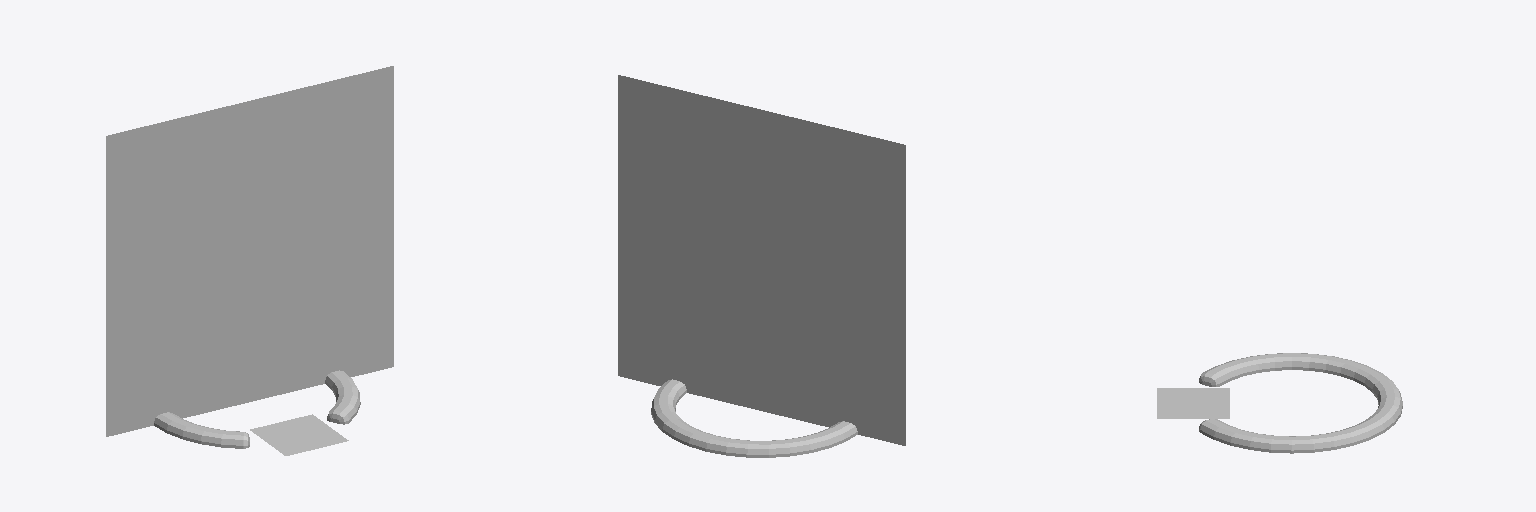
The picture shows the model from 3 angles: view 1: azimuth 30°, elevation 25°; view 2: azimuth 150°, elevation 25°; view 3: azimuth 270°, elevation 25°; orthographic projection.
Parts seen in each view (by area): view 1: 0FRONT_Plane.002, 1BACK_Plane.004, 0BASE_Cylinder.006, 0BASE_ICON_Cylinder.005; view 2: 1BACK_Plane.004, 0FRONT_Plane.002, 0BASE_Cylinder.006, 1BACK_PLATE_Plane.008; view 3: 0BASE_Cylinder.006, 0BASE_ICON_Cylinder.005.
Boxes of the visible parts, box(x1,y1,x2,y2) form: 0FRONT_Plane.002: box(107, 66, 393, 404); 1BACK_Plane.004: box(106, 126, 277, 436); 0BASE_Cylinder.006: box(154, 370, 360, 448); 0BASE_ICON_Cylinder.005: box(250, 414, 348, 455); 1BACK_Plane.004: box(618, 75, 905, 412); 0FRONT_Plane.002: box(744, 135, 905, 445); 0BASE_Cylinder.006: box(651, 379, 857, 457); 1BACK_PLATE_Plane.008: box(724, 285, 797, 336); 0BASE_Cylinder.006: box(1199, 353, 1402, 453); 0BASE_ICON_Cylinder.005: box(1157, 388, 1229, 418).
Size of the model in its own units: 3 by 3 by 2.22.